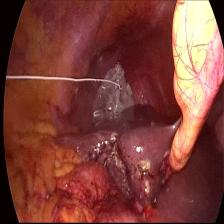Specimen Bag: (87, 62, 140, 118)
